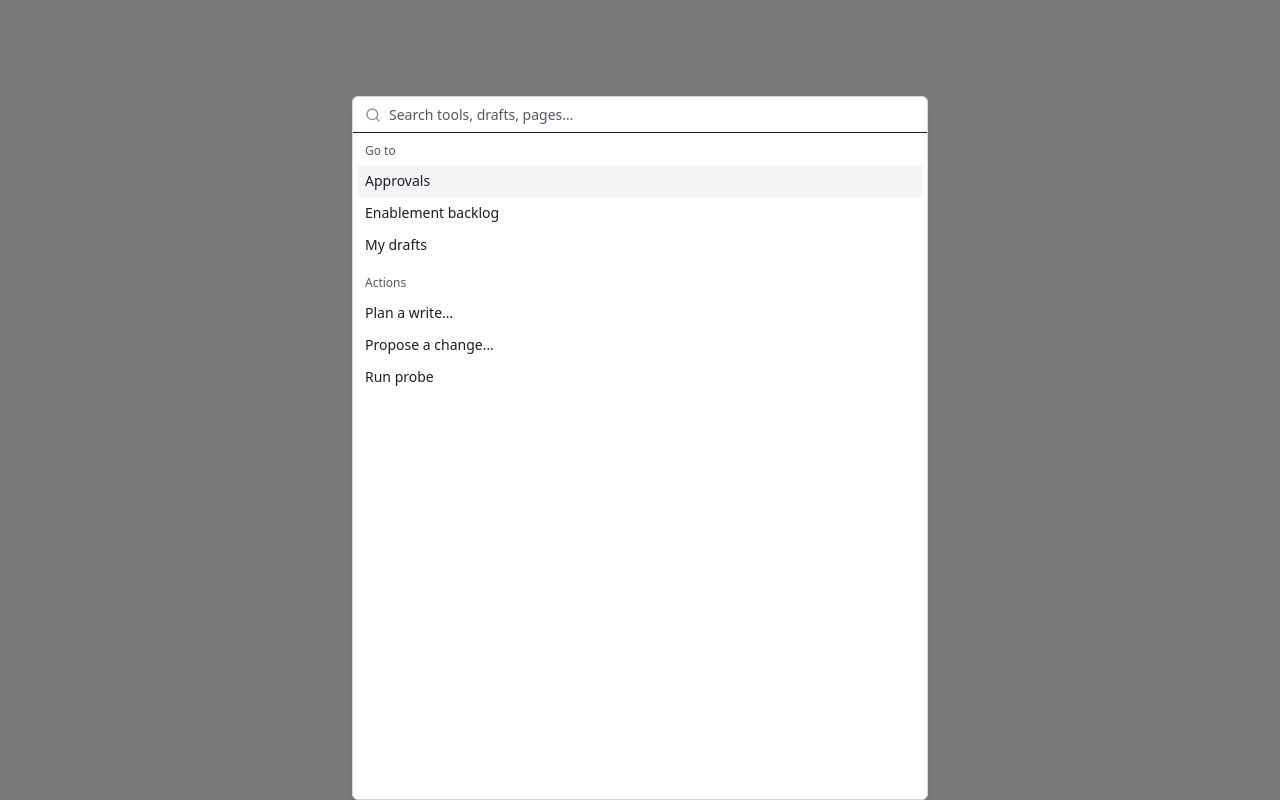
Test case: results render the same fields the agent card carries (03 §9.2 rule 2) › renders id, purpose, verb, write, binding once the client resolves
Step 1. Type "record a supplier invoice" into the dropdown with placeholder "Search tools, drafts, pages…" → x=652, y=114, box 389,94 -> 915,134
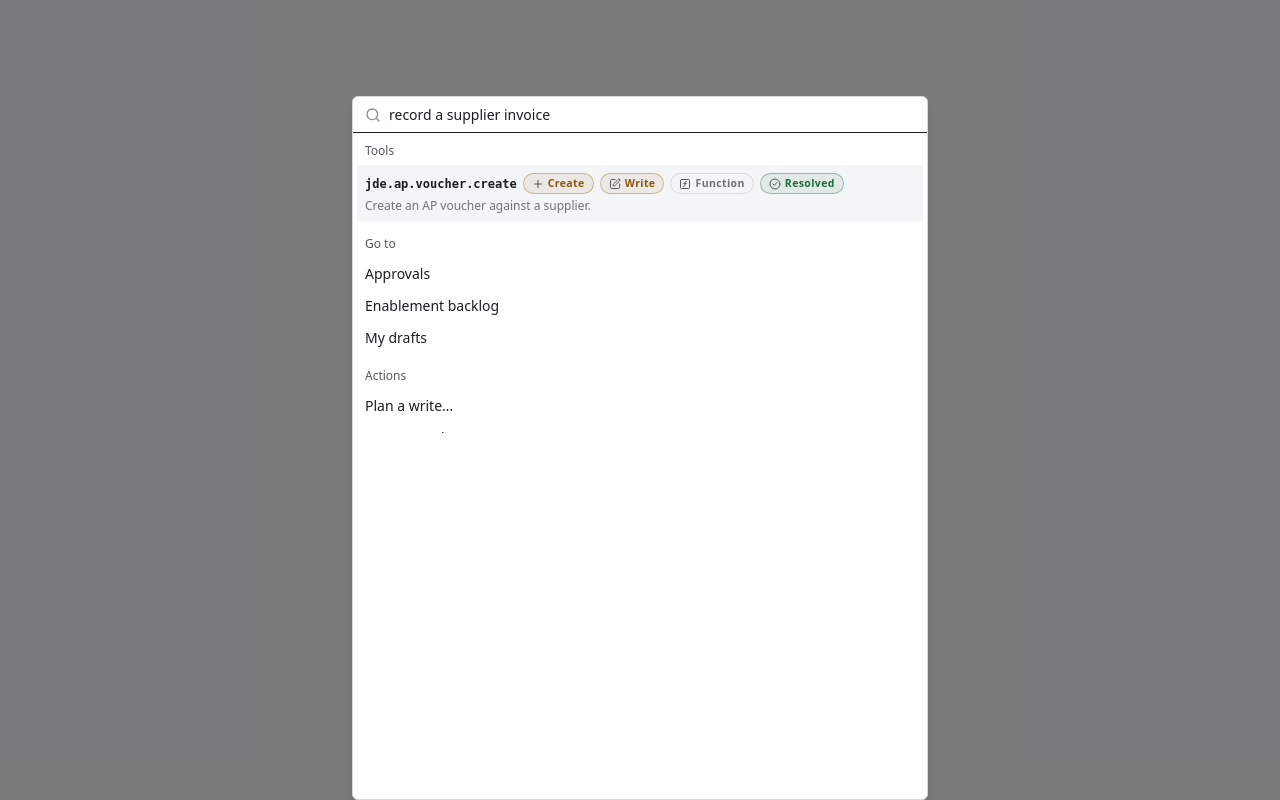
Check: the text "jde.ap.voucher.create" is shown, box 365,176 -> 517,192
Check: the text "Create an AP voucher against a supplier." is shown, box 365,198 -> 591,214
Check: the text "Write" is shown, box 625,176 -> 656,191
